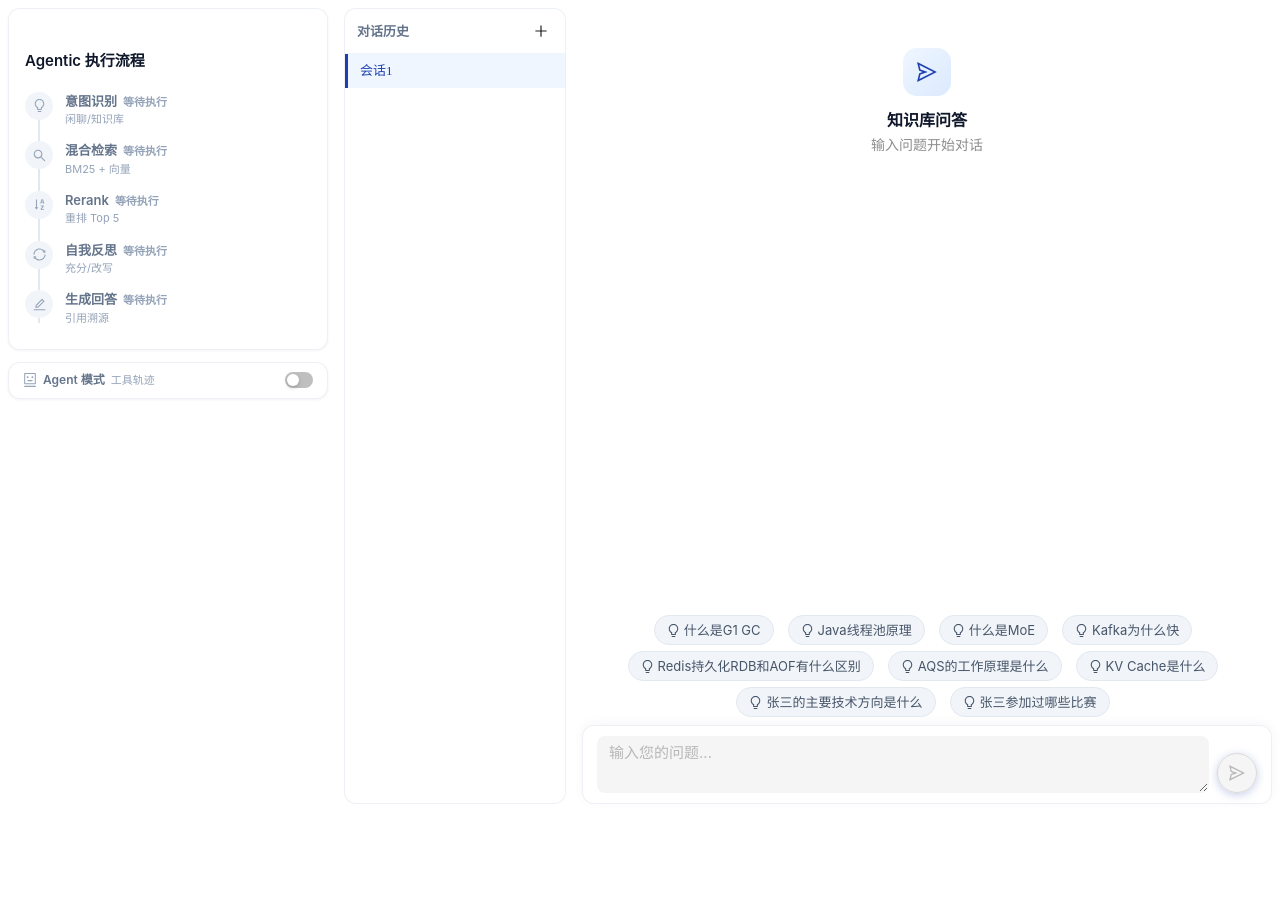
Test: ChatPage › should show error alert when chat API fails
Type "测试" into the text box with placeholder "输入您的问题..." at (903, 764), box [597,736,1209,793]
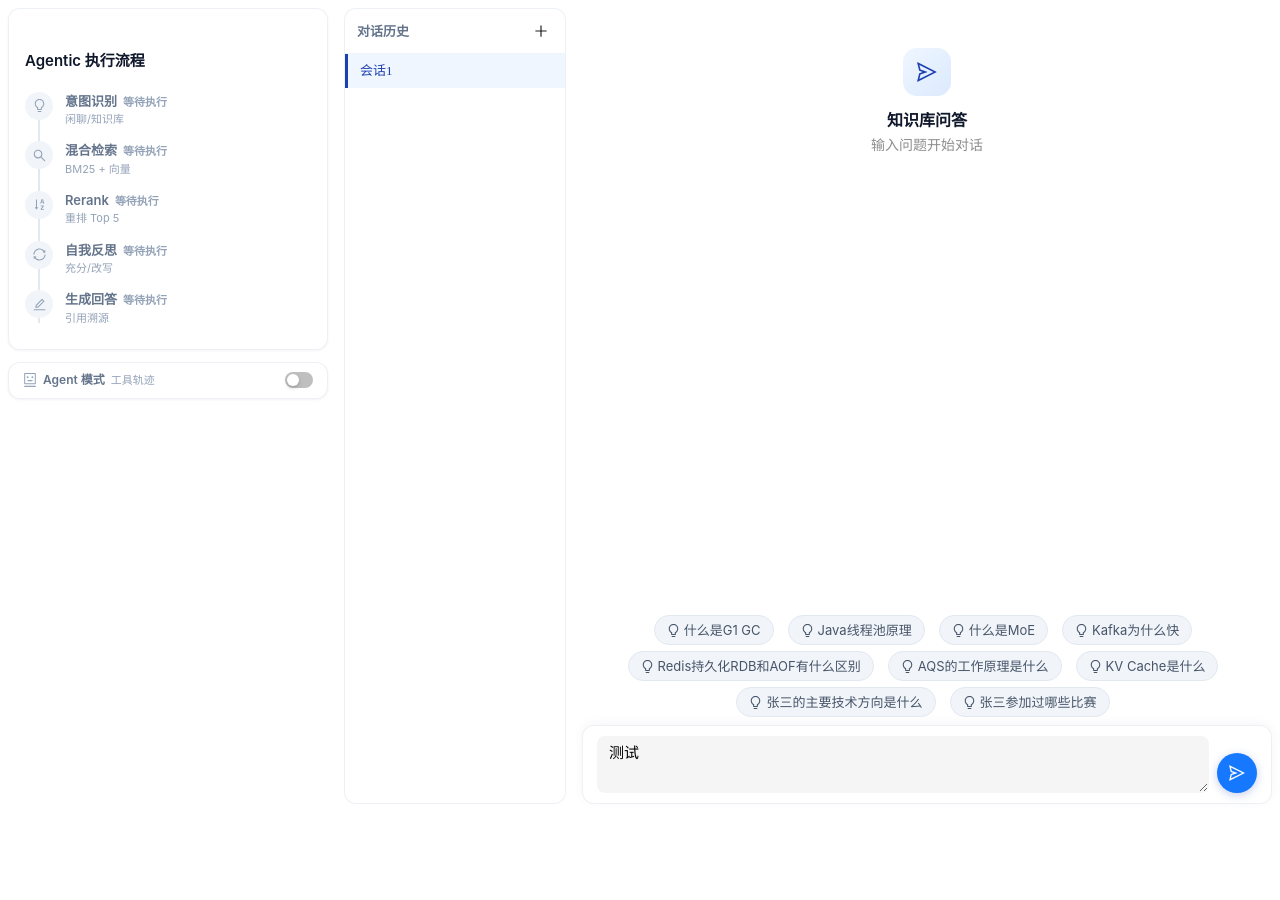
Click the button named "send" below "张三参加过哪些比赛" at (1237, 773), box [1217,753,1257,793]
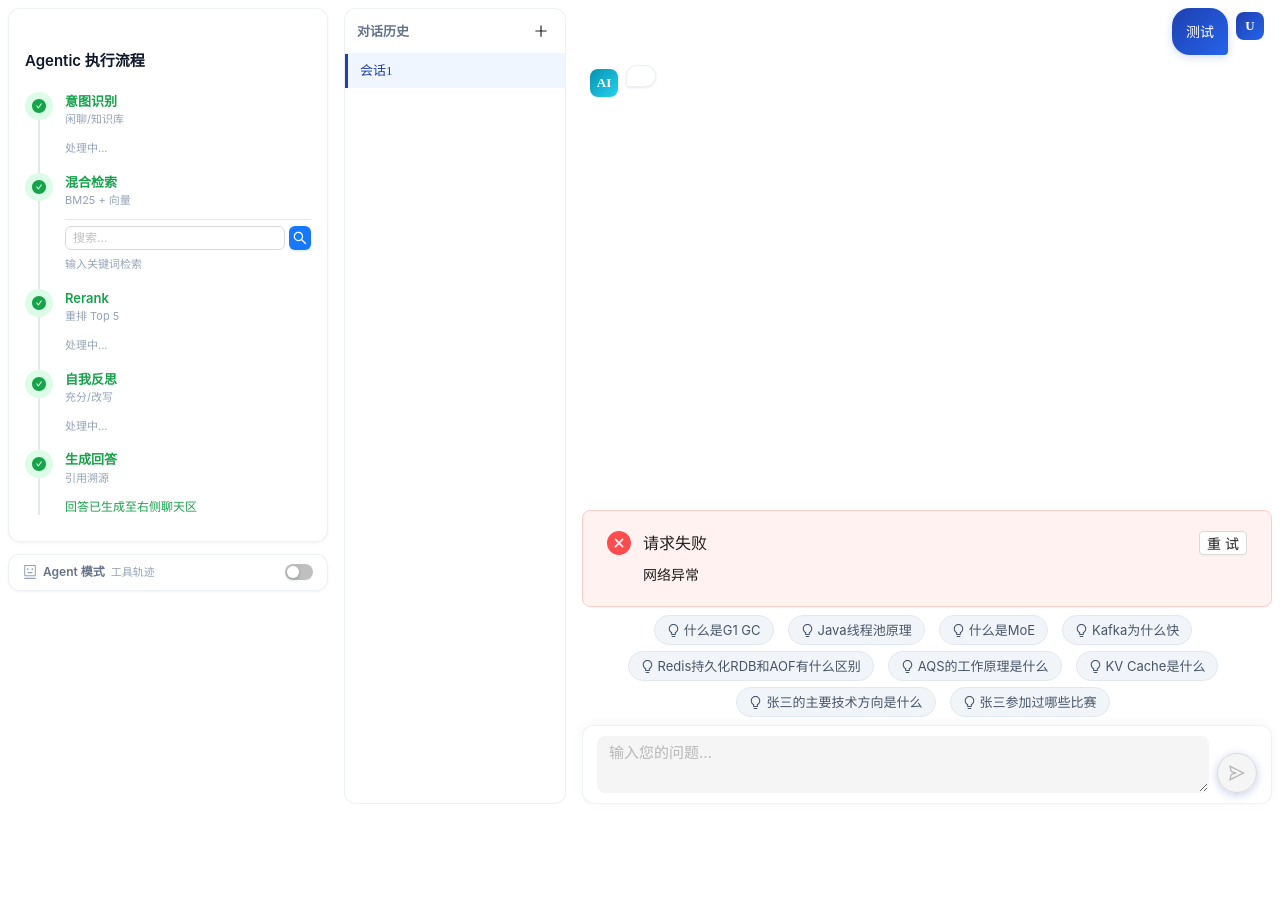
Expected: the text "网络异常" is shown, [643,566,699,583]
Expected: the button "重 试" is shown, [1199,531,1247,555]
